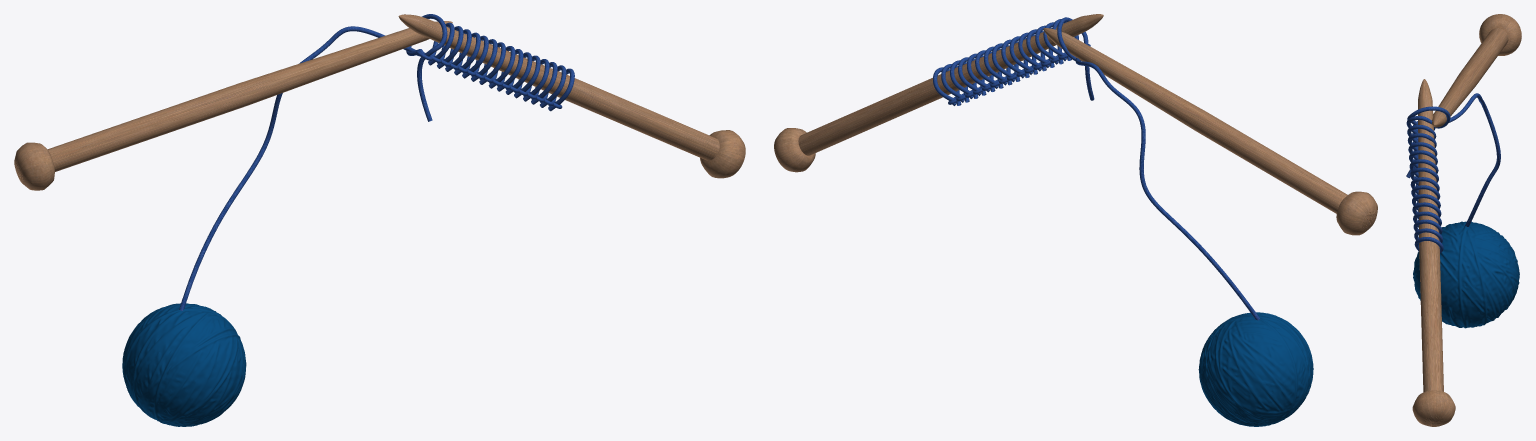
File: purl1.glb
3 views of the same model, side by side, from view 1: azimuth 30°, elevation 25°; view 2: azimuth 150°, elevation 25°; view 3: azimuth 270°, elevation 25° (orthographic). The views are drawn at different scales.
Visible parts, largest first — view 1: SM_Globe6HD_retopo_blinn2_0_4, niddle.001, niddle, topring.015; view 2: SM_Globe6HD_retopo_blinn2_0_4, niddle.001, niddle, topring.015; view 3: SM_Globe6HD_retopo_blinn2_0_4, niddle, niddle.001, topring.015, topring.010, topring.008, topring.009, topring.012, topring.011, topring.007, topring.013, topring.006 (+7 smaller).
Part boxes in pixels (x1,y1,x2,y2): SM_Globe6HD_retopo_blinn2_0_4: [122, 303, 246, 426]; niddle.001: [14, 21, 452, 190]; niddle: [398, 14, 745, 178]; topring.015: [179, 14, 447, 310]; SM_Globe6HD_retopo_blinn2_0_4: [1198, 312, 1313, 426]; niddle.001: [1043, 28, 1377, 235]; niddle: [774, 14, 1103, 172]; topring.015: [1057, 17, 1260, 320]; SM_Globe6HD_retopo_blinn2_0_4: [1413, 221, 1519, 328]; niddle: [1412, 79, 1455, 426]; niddle.001: [1432, 14, 1521, 127]; topring.015: [1406, 93, 1500, 226]; topring.010: [1409, 150, 1437, 168]; topring.008: [1410, 167, 1438, 185]; topring.009: [1409, 159, 1438, 177]; topring.012: [1407, 133, 1436, 150]; topring.011: [1408, 142, 1437, 159]; topring.007: [1410, 177, 1439, 194]; topring.013: [1407, 125, 1436, 142]; topring.006: [1411, 185, 1440, 202].
Bounding box in the file's own units: 6.56 × 3.46 × 1.12.
3 materials, 2 textured.
